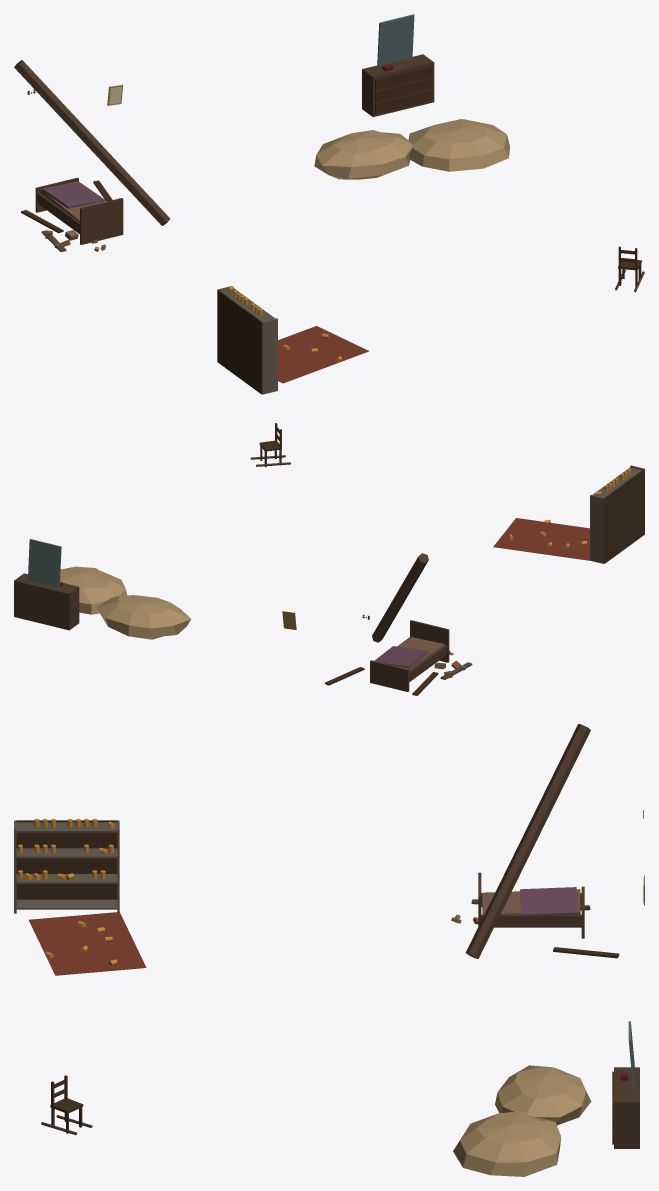
File: TownRoom_kate.glb
The picture shows the model from 3 angles, top to bottom: view 1: azimuth 30°, elevation 25°; view 2: azimuth 150°, elevation 25°; view 3: azimuth 270°, elevation 25°; orthographic projection. The views are drawn at different scales.
Parts seen in each view (by area): view 1: TownRoom_kate.001; view 2: TownRoom_kate.001; view 3: TownRoom_kate.001.
Boxes of the visible parts, x1,y1,x2,y2 form: TownRoom_kate.001: (14, 14, 644, 394); TownRoom_kate.001: (14, 423, 644, 695); TownRoom_kate.001: (14, 724, 644, 1176).
Bounding box in the file's own units: 12.03 × 4.47 × 12.23.
